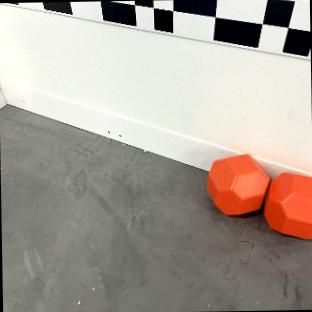V5_RED: (207, 153, 268, 215), (264, 172, 312, 237)
